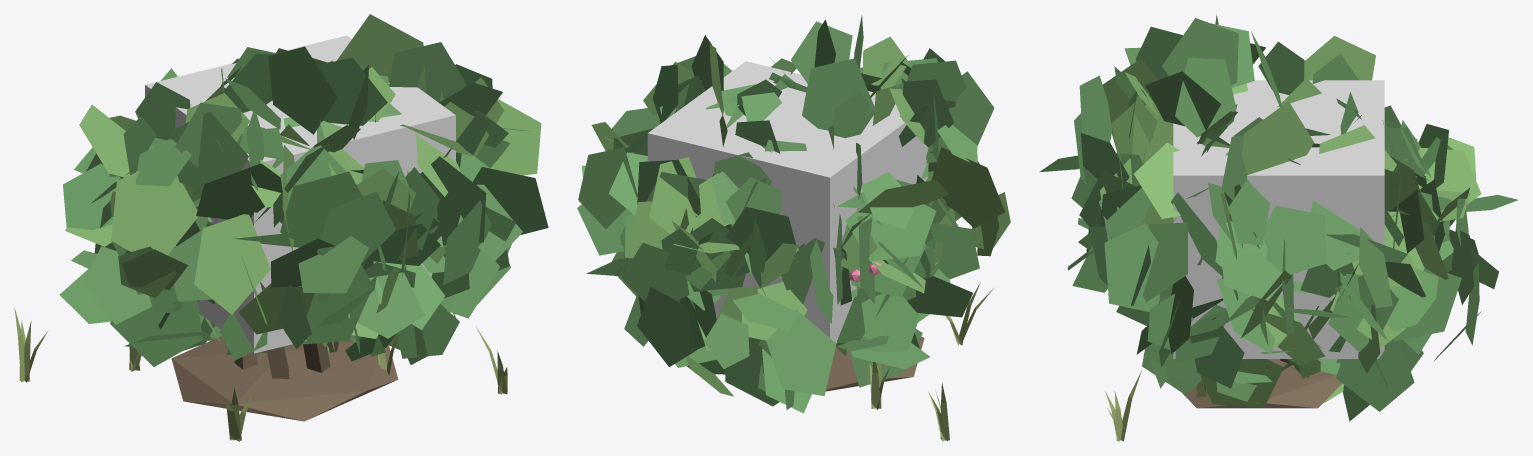
Rendered from bush.glb.
The picture shows the model from 3 angles, left to right: view 1: azimuth 30°, elevation 25°; view 2: azimuth 150°, elevation 25°; view 3: azimuth 270°, elevation 25°; orthographic projection. The views are drawn at different scales.
Parts seen in each view (by area): view 1: Nt_Bush, COL_bush; view 2: Nt_Bush, COL_bush; view 3: Nt_Bush, COL_bush.
Part boxes in pixels (x1=…): Nt_Bush: x1=14, y1=14, x2=548, y2=441; COL_bush: x1=145, y1=35, x2=455, y2=353; Nt_Bush: x1=577, y1=15, x2=1010, y2=441; COL_bush: x1=647, y1=61, x2=928, y2=343; Nt_Bush: x1=1039, y1=14, x2=1518, y2=441; COL_bush: x1=1173, y1=80, x2=1384, y2=358.
Bounding box in the file's own units: 1.11 × 0.8755 × 1.04.
